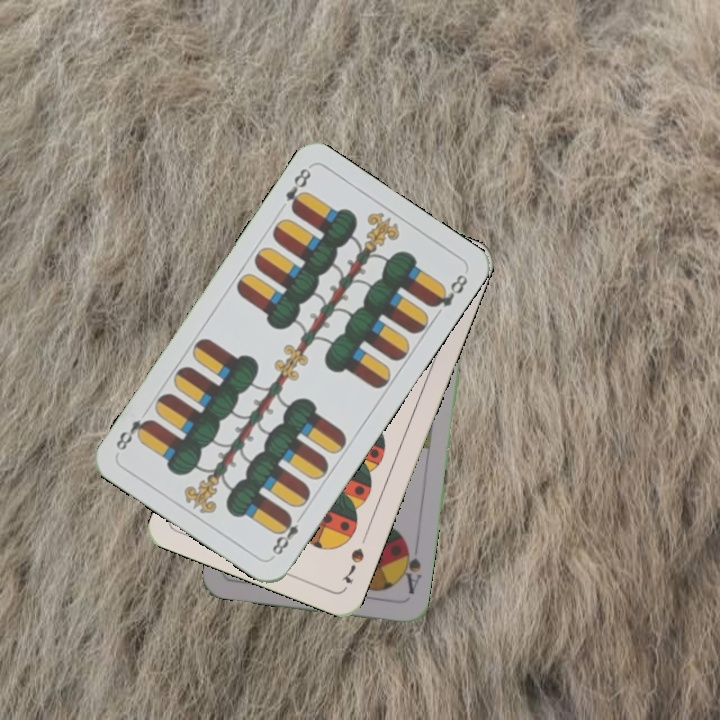E8: (268, 509, 307, 558), (281, 164, 314, 216)
S7: (338, 544, 367, 586)
SA: (396, 539, 424, 597)
